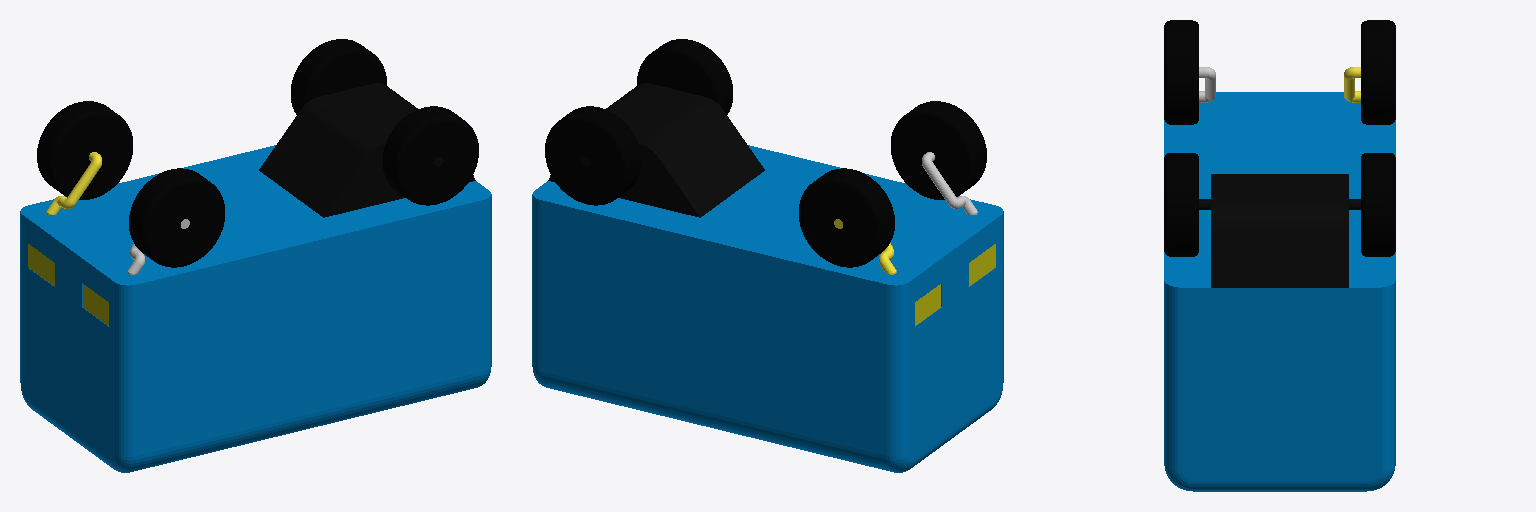
The robot description file, URDF, robot "yn_robot":
<?xml version="1.0" ?>
<!-- =================================================================================== -->
<!-- |    This document was autogenerated by xacro from robot.urdf.xacro               | -->
<!-- |    EDITING THIS FILE BY HAND IS NOT RECOMMENDED                                 | -->
<!-- =================================================================================== -->
<robot name="yn_robot">
  <!-- =============== Link & Joint =============== -->
  <!-- Base Footprint -->
  <link name="base_footprint"/>
  <joint name="footprint" type="fixed">
    <origin rpy="0 0 0" xyz="0 0 0"/>
    <parent link="base_footprint"/>
    <child link="base_link"/>
  </joint>
  <link name="base_link">
    <visual>
      <geometry>
        <mesh filename="package://robot_description/meshes/DAE/base/base_link.dae"/>
      </geometry>
    </visual>
    <collision>
      <geometry>
        <mesh filename="package://robot_description/meshes/STL/base/base_link.stl"/>
      </geometry>
    </collision>
    <inertial>
      <origin xyz="0 0 0"/>
      <mass value="10"/>
      <inertia ixx="0.237" ixy="0" ixz="0" iyy="0.207" iyz="-0.035" izz="0.351"/>
    </inertial>
  </link>
  <joint name="front_right_steering_joint" type="revolute">
    <!-- revolute -->
    <origin rpy="3.141592653589793 0 0" xyz="-0.35 -0.15 0"/>
    <parent link="base_link"/>
    <child link="front_right_steering_link"/>
    <limit effort="5" lower="-2.1" upper="2.1" velocity="6.28"/>
    <axis xyz="0 0 1"/>
  </joint>
  <link name="front_right_steering_link">
    <visual>
      <geometry>
        <mesh filename="package://robot_description/meshes/DAE/suspension/front_right_sus.dae"/>
      </geometry>
    </visual>
    <collision>
      <geometry>
        <mesh filename="package://robot_description/meshes/STL/suspension/front_right_sus.stl"/>
      </geometry>
    </collision>
    <inertial>
      <origin xyz="0 0 -0.02"/>
      <mass value="0.15"/>
      <inertia ixx="0.00001" ixy="0" ixz="0" iyy="0.00001" iyz="0" izz="0.000004"/>
    </inertial>
  </link>
  <joint name="front_left_steering_joint" type="revolute">
    <!-- revolute -->
    <origin rpy="3.141592653589793 0 0" xyz="-0.35 0.15 0"/>
    <parent link="base_link"/>
    <child link="front_left_steering_link"/>
    <limit effort="5" lower="-2.1" upper="2.1" velocity="6.28"/>
    <axis xyz="0 0 1"/>
  </joint>
  <link name="front_left_steering_link">
    <visual>
      <geometry>
        <mesh filename="package://robot_description/meshes/DAE/suspension/front_left_sus.dae"/>
      </geometry>
    </visual>
    <collision>
      <geometry>
        <mesh filename="package://robot_description/meshes/STL/suspension/front_left_sus.stl"/>
      </geometry>
    </collision>
    <inertial>
      <origin xyz="0 0 -0.02"/>
      <mass value="0.15"/>
      <inertia ixx="0.00001" ixy="0" ixz="0" iyy="0.00001" iyz="0" izz="0.000004"/>
    </inertial>
  </link>
  <joint name="front_right_wheel_joint" type="continuous">
    <!--continuous-->
    <origin xyz="0.083562 0.02 -0.099586"/>
    <parent link="front_right_steering_link"/>
    <child link="front_right_wheel_link"/>
    <limit effort="1.5" velocity="20"/>
    <axis xyz="0 1 0"/>
  </joint>
  <link name="front_right_wheel_link">
    <visual>
      <geometry>
        <mesh filename="package://robot_description/meshes/DAE/front_wheel/wheel.dae"/>
      </geometry>
    </visual>
    <collision>
      <geometry>
        <mesh filename="package://robot_description/meshes/STL/front_wheel/wheel.stl"/>
      </geometry>
    </collision>
    <inertial>
      <origin xyz="0 0 0"/>
      <mass value="0.137"/>
      <inertia ixx="0.00006" ixy="0" ixz="0" iyy="0.00011" iyz="0" izz="0.00006"/>
    </inertial>
  </link>
  <joint name="front_left_wheel_joint" type="continuous">
    <!--continuous-->
    <origin xyz="0.083562 -0.02 -0.099586"/>
    <parent link="front_left_steering_link"/>
    <child link="front_left_wheel_link"/>
    <limit effort="1.5" velocity="20"/>
    <axis xyz="0 -1 0"/>
  </joint>
  <link name="front_left_wheel_link">
    <visual>
      <geometry>
        <mesh filename="package://robot_description/meshes/DAE/front_wheel/wheel.dae"/>
      </geometry>
    </visual>
    <collision>
      <geometry>
        <mesh filename="package://robot_description/meshes/STL/front_wheel/wheel.stl"/>
      </geometry>
    </collision>
    <inertial>
      <origin xyz="0 0 0"/>
      <mass value="0.137"/>
      <inertia ixx="0.00006" ixy="0" ixz="0" iyy="0.00011" iyz="0" izz="0.00006"/>
    </inertial>
  </link>
  <joint name="right_wheel_joint" type="continuous">
    <origin rpy="0 0 0" xyz="0.275 -0.17 0.1"/>
    <parent link="base_link"/>
    <child link="right_wheel_link"/>
    <axis xyz="0 1 0"/>
  </joint>
  <link name="right_wheel_link">
    <visual>
      <geometry>
        <mesh filename="package://robot_description/meshes/DAE/rear_wheel/wheel.dae"/>
      </geometry>
    </visual>
    <collision>
      <geometry>
        <mesh filename="package://robot_description/meshes/STL/rear_wheel/wheel.stl"/>
      </geometry>
    </collision>
    <inertial>
      <origin xyz="0 0 0"/>
      <mass value="1.75"/>
      <inertia ixx="0.00458" ixy="0" ixz="0" iyy="0.00871" iyz="0" izz="0.00458"/>
    </inertial>
  </link>
  <joint name="left_wheel_joint" type="continuous">
    <origin rpy="0 0 3.141592653589793" xyz="0.275 0.17 0.1"/>
    <parent link="base_link"/>
    <child link="left_wheel_link"/>
    <axis xyz="0 -1 0"/>
  </joint>
  <link name="left_wheel_link">
    <visual>
      <geometry>
        <mesh filename="package://robot_description/meshes/DAE/rear_wheel/wheel.dae"/>
      </geometry>
    </visual>
    <collision>
      <geometry>
        <mesh filename="package://robot_description/meshes/STL/rear_wheel/wheel.stl"/>
      </geometry>
    </collision>
    <inertial>
      <origin xyz="0 0 0"/>
      <mass value="1.75"/>
      <inertia ixx="0.00458" ixy="0" ixz="0" iyy="0.00871" iyz="0" izz="0.00458"/>
    </inertial>
  </link>
  <joint name="velodyne_base_mount_joint" type="fixed">
    <origin rpy="0 3.141592653589793 0" xyz="0 0 -0.4"/>
    <parent link="base_link"/>
    <child link="velodyne_base_link"/>
  </joint>
  <link name="velodyne_base_link">
    <inertial>
      <mass value="0.83"/>
      <origin xyz="0 0 0.03585"/>
      <inertia ixx="0.000908059425" ixy="0" ixz="0" iyy="0.000908059425" iyz="0" izz="0.0011049624"/>
    </inertial>
    <visual>
      <geometry>
        <mesh filename="package://velodyne_description/meshes/VLP16_base_1.dae"/>
      </geometry>
    </visual>
    <visual>
      <geometry>
        <mesh filename="package://velodyne_description/meshes/VLP16_base_2.dae"/>
      </geometry>
    </visual>
    <collision>
      <origin rpy="0 0 0" xyz="0 0 0.03585"/>
      <geometry>
        <cylinder length="0.0717" radius="0.0516"/>
      </geometry>
    </collision>
  </link>
  <joint name="velodyne_base_scan_joint" type="fixed">
    <origin rpy="0 0 0" xyz="0 0 0.0377"/>
    <parent link="velodyne_base_link"/>
    <child link="velodyne"/>
  </joint>
  <link name="velodyne">
    <inertial>
      <mass value="0.01"/>
      <origin xyz="0 0 0"/>
      <inertia ixx="1e-7" ixy="0" ixz="0" iyy="1e-7" iyz="0" izz="1e-7"/>
    </inertial>
    <visual>
      <origin xyz="0 0 -0.0377"/>
      <geometry>
        <mesh filename="package://velodyne_description/meshes/VLP16_scan.dae"/>
      </geometry>
    </visual>
  </link>
  <!-- Gazebo requires the velodyne_gazebo_plugins package -->
  <gazebo reference="velodyne">
    <sensor name="velodyne-VLP16" type="ray">
      <pose>0 0 0 0 0 0</pose>
      <visualize>false</visualize>
      <update_rate>10</update_rate>
      <ray>
        <scan>
          <horizontal>
            <samples>440</samples>
            <resolution>1</resolution>
            <min_angle>-3.141592653589793</min_angle>
            <max_angle>3.141592653589793</max_angle>
          </horizontal>
          <vertical>
            <samples>16</samples>
            <resolution>1</resolution>
            <min_angle>-0.2617993877991494</min_angle>
            <max_angle>
                  0.2617993877991494</max_angle>
          </vertical>
        </scan>
        <range>
          <min>0.3</min>
          <max>131.0</max>
          <resolution>0.001</resolution>
        </range>
        <noise>
          <type>gaussian</type>
          <mean>0.0</mean>
          <stddev>0.0</stddev>
        </noise>
      </ray>
      <plugin filename="libgazebo_ros_velodyne_laser.so" name="gazebo_ros_laser_controller">
        <topicName>/points_raw</topicName>
        <frameName>velodyne</frameName>
        <min_range>0.9</min_range>
        <max_range>130.0</max_range>
        <gaussianNoise>0.008</gaussianNoise>
      </plugin>
    </sensor>
  </gazebo>
  <joint name="imu_joint" type="fixed">
    <origin rpy="0 3.141592653589793 0" xyz="0 0 -0.297322"/>
    <parent link="base_link"/>
    <child link="imu_link"/>
  </joint>
  <link name="imu_link">
    <!--
	  <visual>
		<geometry>
		  <mesh filename="package://omni_robot_description/meshes/DAE/IMU/IMU_sensor.dae"/>
		</geometry>
	  </visual>
	  -->
    <inertial>
      <origin xyz="0 0 0"/>
      <mass value="0.005"/>
      <inertia ixx="1.67e-8" ixy="0" ixz="0" iyy="1.67e-8" iyz="0" izz="1.67e-8"/>
    </inertial>
  </link>
  <transmission name="right_wheel_trans">
    <type>transmission_interface/SimpleTransmission</type>
    <joint name="right_wheel_joint">
      <hardwareInterface>hardware_interface/VelocityJointInterface</hardwareInterface>
    </joint>
    <actuator name="right_wheel_motor">
      <hardwareInterface>hardware_interface/VelocityJointInterface</hardwareInterface>
      <mechanicalReduction>30</mechanicalReduction>
    </actuator>
  </transmission>
  <transmission name="left_wheel_trans">
    <type>transmission_interface/SimpleTransmission</type>
    <joint name="left_wheel_joint">
      <hardwareInterface>hardware_interface/VelocityJointInterface</hardwareInterface>
    </joint>
    <actuator name="left_wheel_motor">
      <hardwareInterface>hardware_interface/VelocityJointInterface</hardwareInterface>
      <mechanicalReduction>30</mechanicalReduction>
    </actuator>
  </transmission>
  <!-- =============== Gazebo =============== -->
  <gazebo>
    <plugin filename="libgazebo_ros_control.so" name="gazebo_ros_control"/>
  </gazebo>
  <gazebo reference="base_link">
    <selfCollide>false</selfCollide>
    <mu1 value="0.05"/>
    <mu2 value="0.05"/>
  </gazebo>
  <gazebo reference="front_right_wheel_link">
    <selfCollide>false</selfCollide>
    <mu1 value="0.8"/>
    <mu2 value="0.8"/>
    <kp value="100000.0"/>
    <kd value="10.0"/>
  </gazebo>
  <gazebo reference="front_left_wheel_link">
    <selfCollide>false</selfCollide>
    <mu1 value="0.8"/>
    <mu2 value="0.8"/>
    <kp value="100000.0"/>
    <kd value="10.0"/>
  </gazebo>
  <gazebo reference="right_wheel_link">
    <selfCollide>false</selfCollide>
    <mu1 value="0.8"/>
    <mu2 value="0.8"/>
    <kp value="100000.0"/>
    <kd value="10.0"/>
  </gazebo>
  <gazebo reference="left_wheel_link">
    <selfCollide>false</selfCollide>
    <mu1 value="0.8"/>
    <mu2 value="0.8"/>
    <kp value="100000.0"/>
    <kd value="10.0"/>
  </gazebo>
  <gazebo reference="front_right_steering_link">
    <selfCollide>false</selfCollide>
    <mu1 value="0.05"/>
    <mu2 value="0.05"/>
  </gazebo>
  <gazebo reference="front_left_steering_link">
    <selfCollide>false</selfCollide>
    <mu1 value="0.05"/>
    <mu2 value="0.05"/>
  </gazebo>
  <gazebo reference="imu_link">
    <gravity>true</gravity>
    <sensor name="imu_sensor" type="imu">
      <always_on>true</always_on>
      <update_rate>200</update_rate>
      <visualize>true</visualize>
      <topic>__default_topic__</topic>
      <pose>0 0 0 0 0 0</pose>
      <plugin filename="libgazebo_ros_imu_sensor.so" name="imu_plugin">
        <topicName>imu_raw</topicName>
        <update_rate>0</update_rate>
        <bodyName>imu_link</bodyName>
        <updateRateHZ>200.0</updateRateHZ>
        <gaussianNoise>0.0</gaussianNoise>
        <xyzOffset>0 0 0</xyzOffset>
        <rpyOffset>0 0 0</rpyOffset>
        <frameName>base_link</frameName>
        <initialOrientationAsReference>false</initialOrientationAsReference>
      </plugin>
    </sensor>
  </gazebo>
</robot>

--- Render facts (derived) ---
Views: 3 orthographic renders of the robot side by side, from view 1: azimuth 30°, elevation 25°; view 2: azimuth 150°, elevation 25°; view 3: azimuth 270°, elevation 25°.
Robot: yn_robot — 11 links, 10 joints (2 revolute, 4 continuous, 4 fixed); root link base_footprint; default pose: all joints at 0.
Links seen in each view (by area): view 1: base_link, front_right_wheel_link, right_wheel_link, front_left_wheel_link, left_wheel_link, front_left_steering_link; view 2: base_link, front_left_wheel_link, left_wheel_link, front_right_wheel_link, right_wheel_link, front_right_steering_link; view 3: base_link, front_right_wheel_link, front_left_wheel_link, right_wheel_link, left_wheel_link.
Link boxes in pixels (x1,y1,x2,y2): base_link: (20, 83, 491, 472); front_right_wheel_link: (129, 168, 224, 267); right_wheel_link: (383, 106, 478, 205); front_left_wheel_link: (37, 101, 132, 199); left_wheel_link: (291, 39, 386, 114); front_left_steering_link: (46, 152, 101, 214); base_link: (532, 83, 1003, 472); front_left_wheel_link: (799, 168, 894, 267); left_wheel_link: (545, 106, 640, 205); front_right_wheel_link: (891, 101, 986, 199); right_wheel_link: (637, 39, 732, 114); front_right_steering_link: (922, 152, 977, 214); base_link: (1164, 92, 1395, 491); front_right_wheel_link: (1164, 20, 1198, 124); front_left_wheel_link: (1361, 20, 1395, 124); right_wheel_link: (1164, 153, 1198, 256); left_wheel_link: (1361, 153, 1395, 256).
Size in the robot's own frame: 0.8 by 0.4 by 0.59 metres.
7 mesh visuals loaded from 8 distinct referenced files (4 Collada DAE); not drawn: 3 (reference not matched to a file when rendering).
